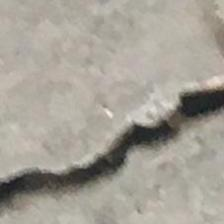Crack: (0, 80, 224, 217)
